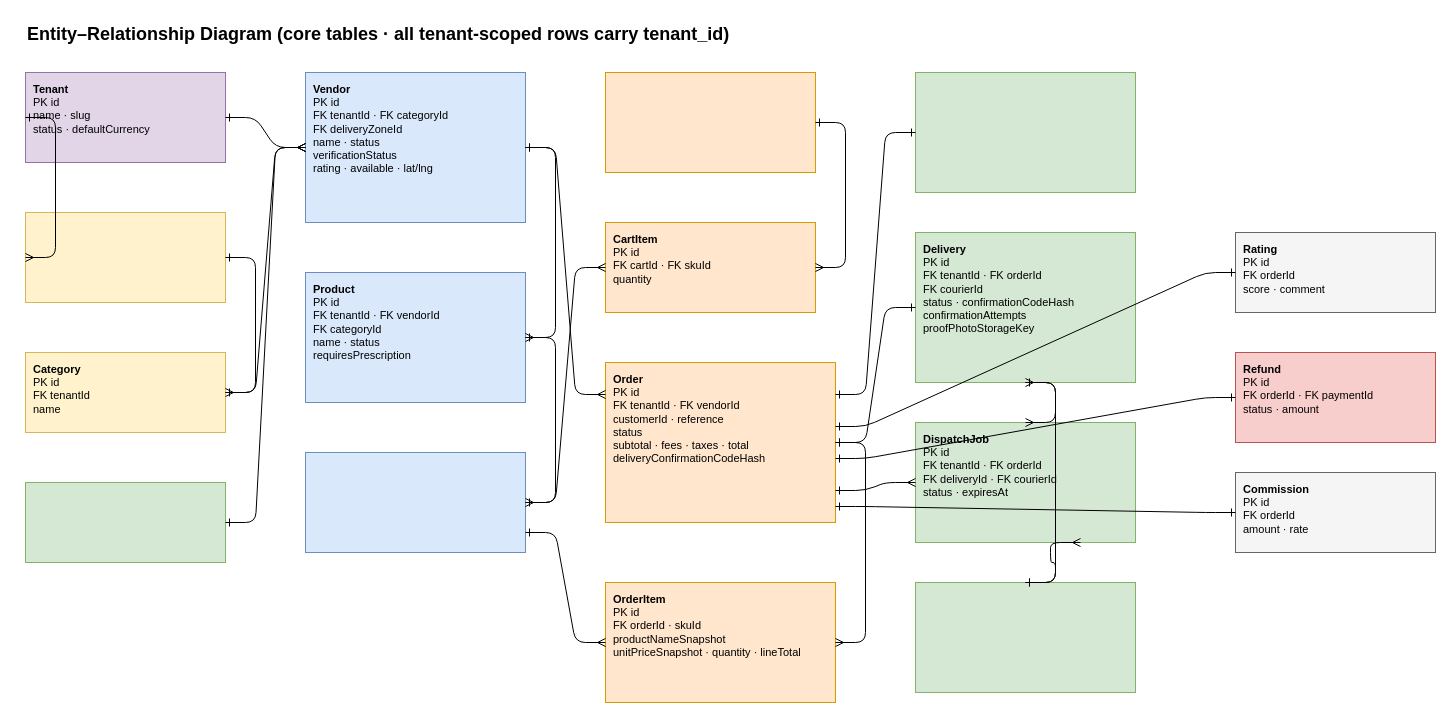
The diagram is 1453 pixels wide and 720 high, and some of its shapes have lost their labels. Here are the shapes that lost their labels. From the top down, the box of each, then its label:
(604, 72, 816, 172): Cart PK id FK tenantId · FK vendorId customerId · status
(914, 72, 1136, 192): Payment PK id FK tenantId · FK orderId amount · provider status · idempotencyKey
(24, 212, 226, 302): Vertical PK id FK tenantId slug · label · active
(24, 482, 226, 562): Zone PK id FK tenantId name · geometry (PostGIS)
(304, 452, 526, 552): Sku PK id FK tenantId · FK productId skuCode · price · active
(914, 582, 1136, 692): Courier PK id FK tenantId name · phone verificationStatus · zone
